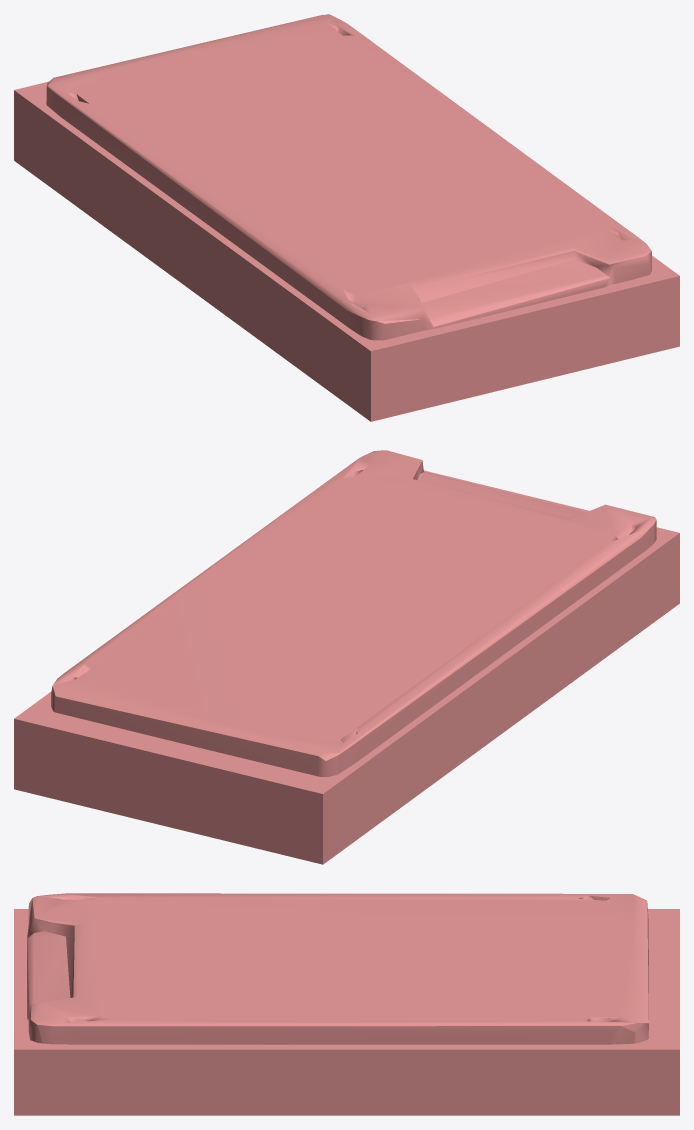
Rendered from ComplexWall_2x1_02_Final.fbx.
3 views of the same model, one above another, from view 1: azimuth 30°, elevation 25°; view 2: azimuth 150°, elevation 25°; view 3: azimuth 270°, elevation 25° (orthographic). The views are drawn at different scales.
Parts seen in each view (by area): view 1: Final_ComplexWall_2x1_02; view 2: Final_ComplexWall_2x1_02; view 3: Final_ComplexWall_2x1_02.
Part boxes in pixels (x1,y1,x2,y2): Final_ComplexWall_2x1_02: (14, 14, 679, 421); Final_ComplexWall_2x1_02: (14, 450, 679, 864); Final_ComplexWall_2x1_02: (14, 893, 679, 1115).
Bounding box in the file's own units: 100 × 28.47 × 200.
